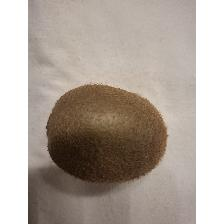Kiwi: (44, 80, 170, 186)
